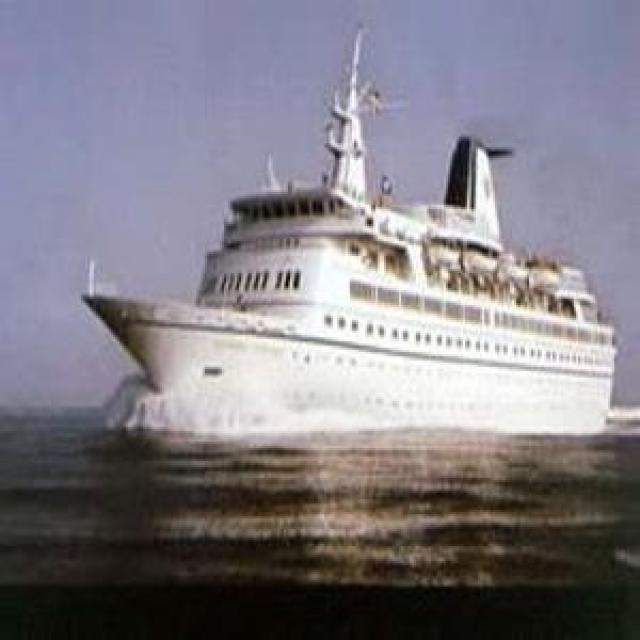passenger ship: (32, 75, 632, 460)
